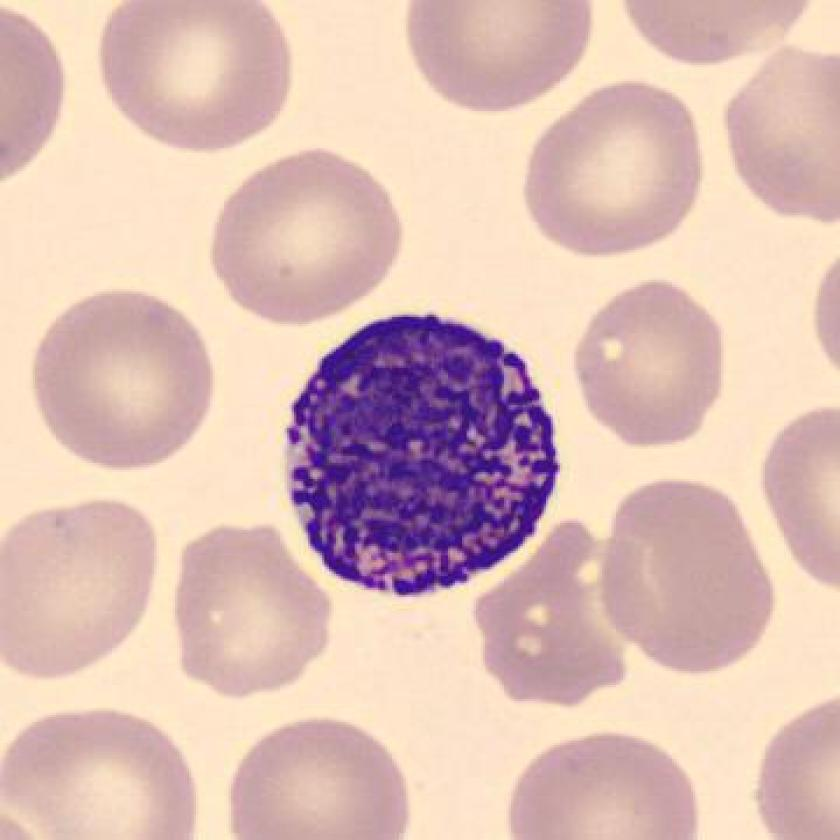basophil: (281, 298, 566, 601)
